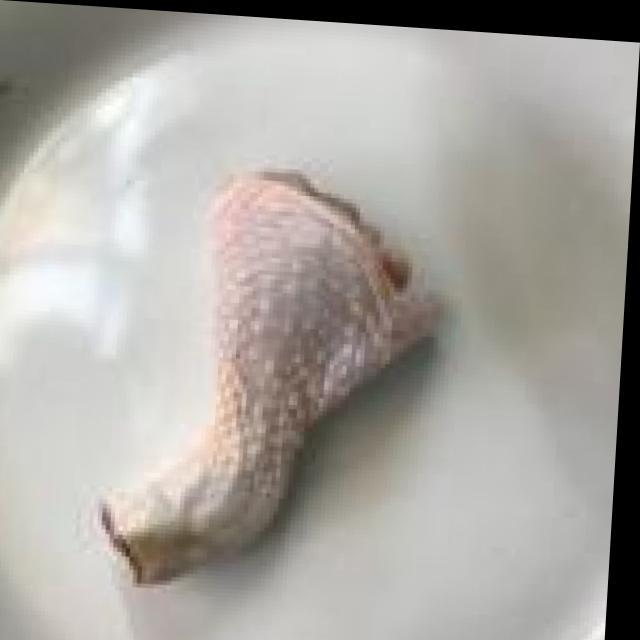leg: (92, 146, 441, 612)
